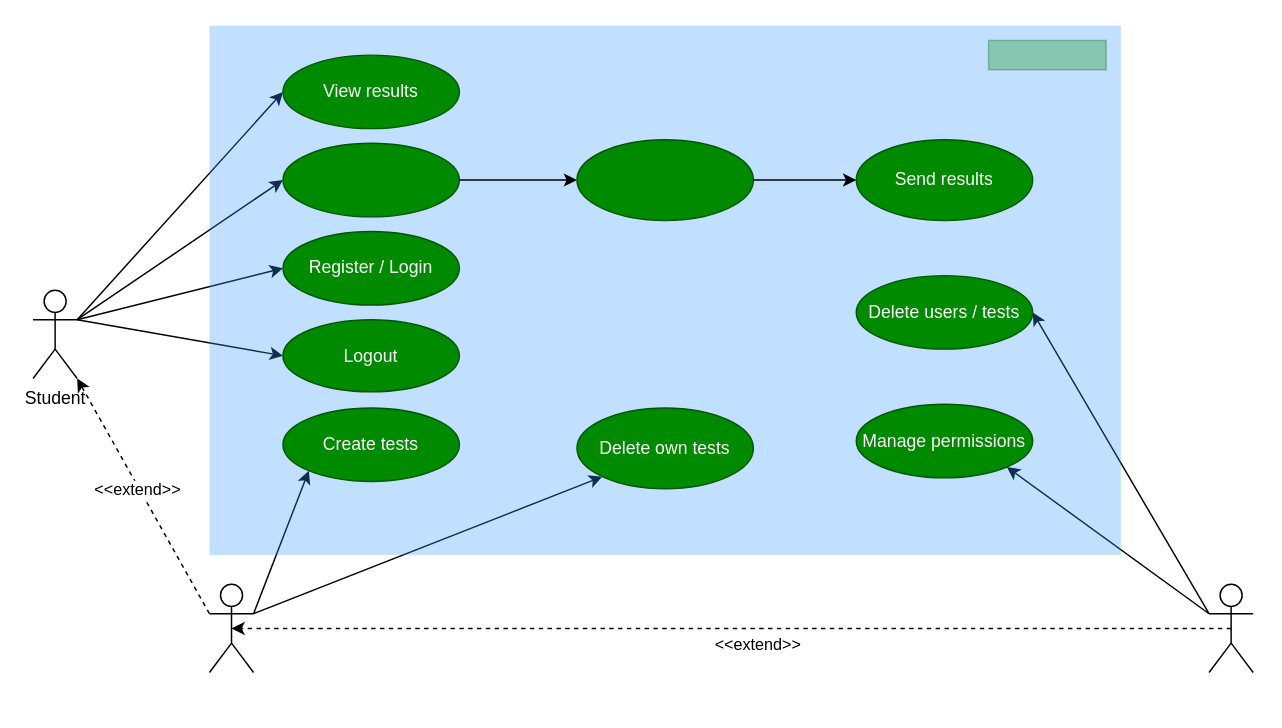
Image size: 1282x728. Some labels were removed from this diagram. The centre of each missing label's shape, as x and y in pixels:
"Admin" belongs at (x=1230, y=628).
"Browse tests" belongs at (x=370, y=179).
"Solve tests" belongs at (x=664, y=179).
"Teacher" belongs at (x=231, y=628).
"Test platform" belongs at (x=1046, y=54).
